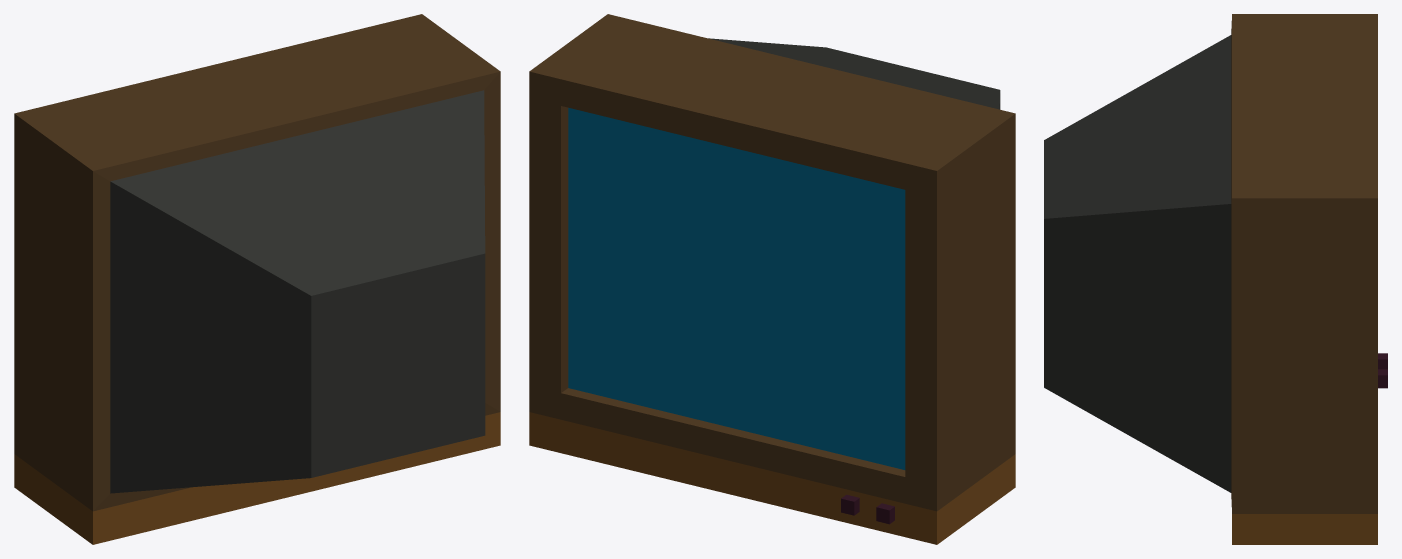
Rendered from Fernsehr.fbx.
3 renders of one model, left to right at view 1: azimuth 30°, elevation 25°; view 2: azimuth 150°, elevation 25°; view 3: azimuth 270°, elevation 25°, orthographic. The views are drawn at different scales.
Parts seen in each view (by area): view 1: Fernsehr; view 2: Fernsehr, Knöpfe; view 3: Fernsehr.
Boxes of the visible parts, x1,y1,x2,y2 form: Fernsehr: (14, 14, 500, 544); Fernsehr: (529, 14, 1015, 544); Knöpfe: (841, 494, 894, 524); Fernsehr: (1044, 14, 1377, 544).
Size of the model in its own units: 274 by 240 by 216.
